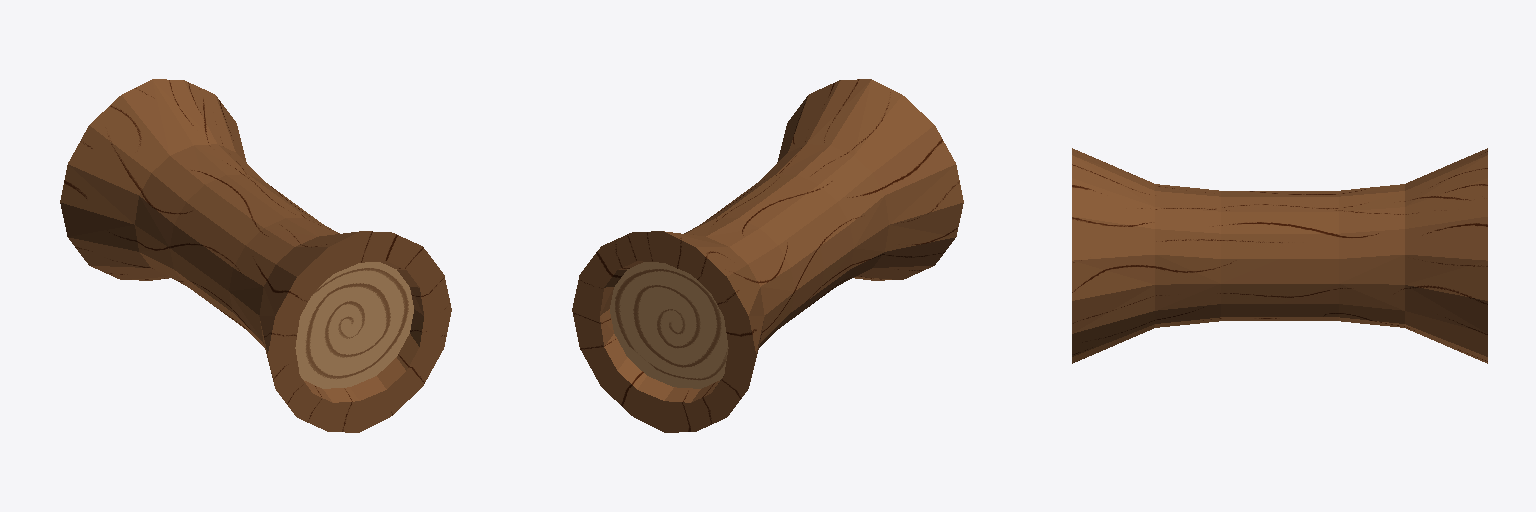
3 views of the same model, side by side, from view 1: azimuth 30°, elevation 25°; view 2: azimuth 150°, elevation 25°; view 3: azimuth 270°, elevation 25° (orthographic).
Parts seen in each view (by area): view 1: Cylinder; view 2: Cylinder; view 3: Cylinder.
Part boxes in pixels (x1,y1,x2,y2): Cylinder: (60, 79, 451, 432); Cylinder: (572, 79, 963, 432); Cylinder: (1072, 148, 1487, 363).
Bounding box in the file's own units: 5.78 × 6.04 × 11.3.
Materials: 1 (1 with a texture image).